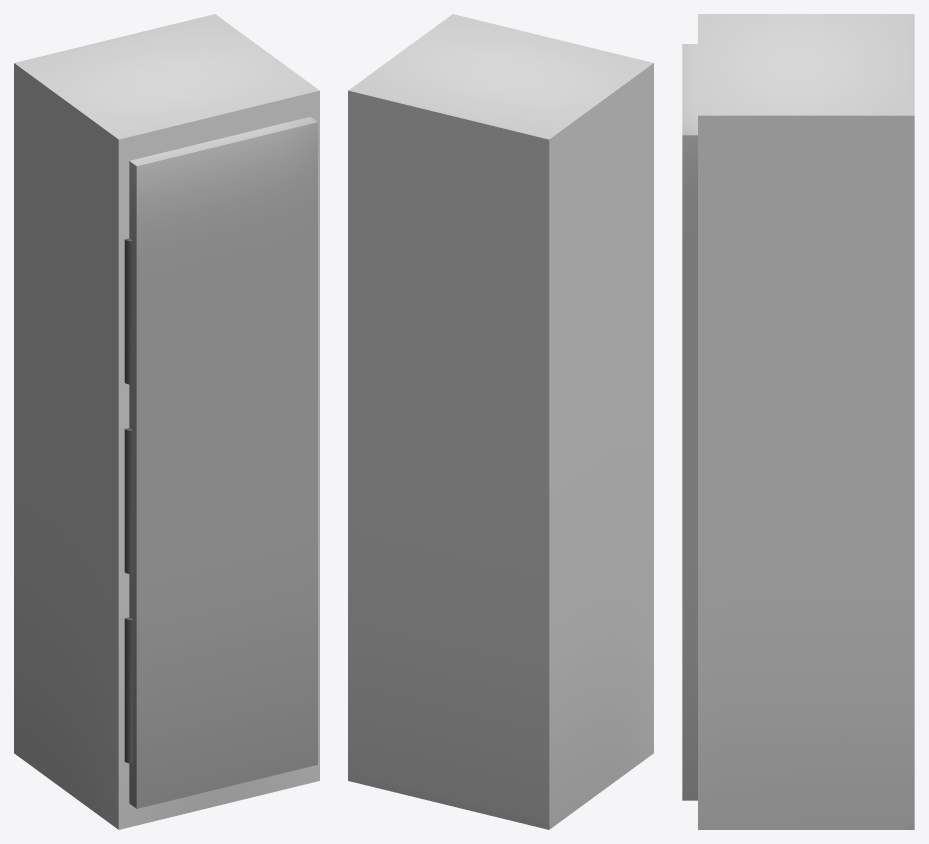
File: Chest1.FBX
3 renders of one model, left to right at view 1: azimuth 30°, elevation 25°; view 2: azimuth 150°, elevation 25°; view 3: azimuth 270°, elevation 25°, orthographic. The views are drawn at different scales.
Parts seen in each view (by area): view 1: chestdoor1, chestbox1; view 2: chestbox1; view 3: chestbox1, chestdoor1.
Part boxes in pixels (<box>): chestdoor1: <box>124,116,317,808</box>; chestbox1: <box>14,14,319,829</box>; chestbox1: <box>348,14,653,829</box>; chestbox1: <box>698,14,914,829</box>; chestdoor1: <box>682,44,697,800</box>.
Bounding box in the file's own units: 18.44 × 60.52 × 17.81.
Materials: 2 (2 with a texture image).
